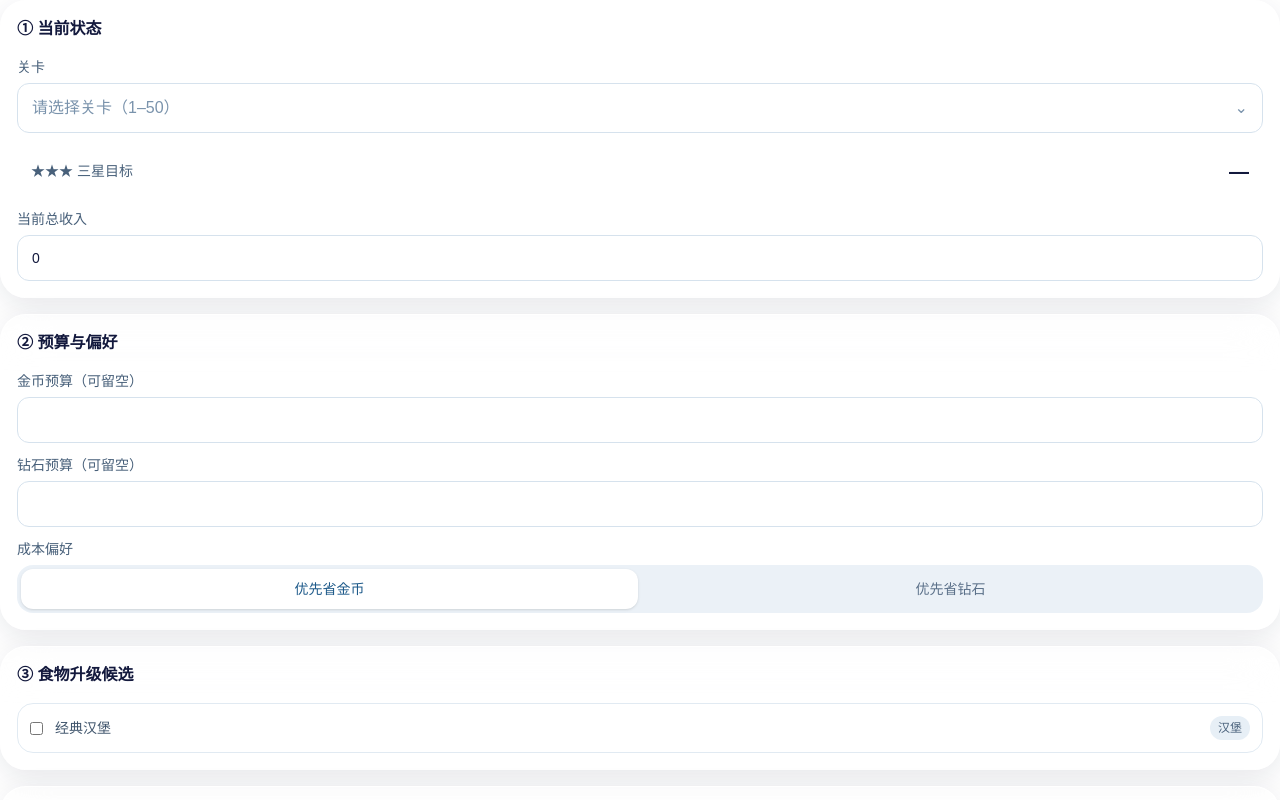
Test: CalculatorForm › closes the open level listbox with Escape or an outside click
The width and height of the screenshot is (1280, 800).
Click the dropdown labelled "关卡": (106, 108) [17,83,1263,133]
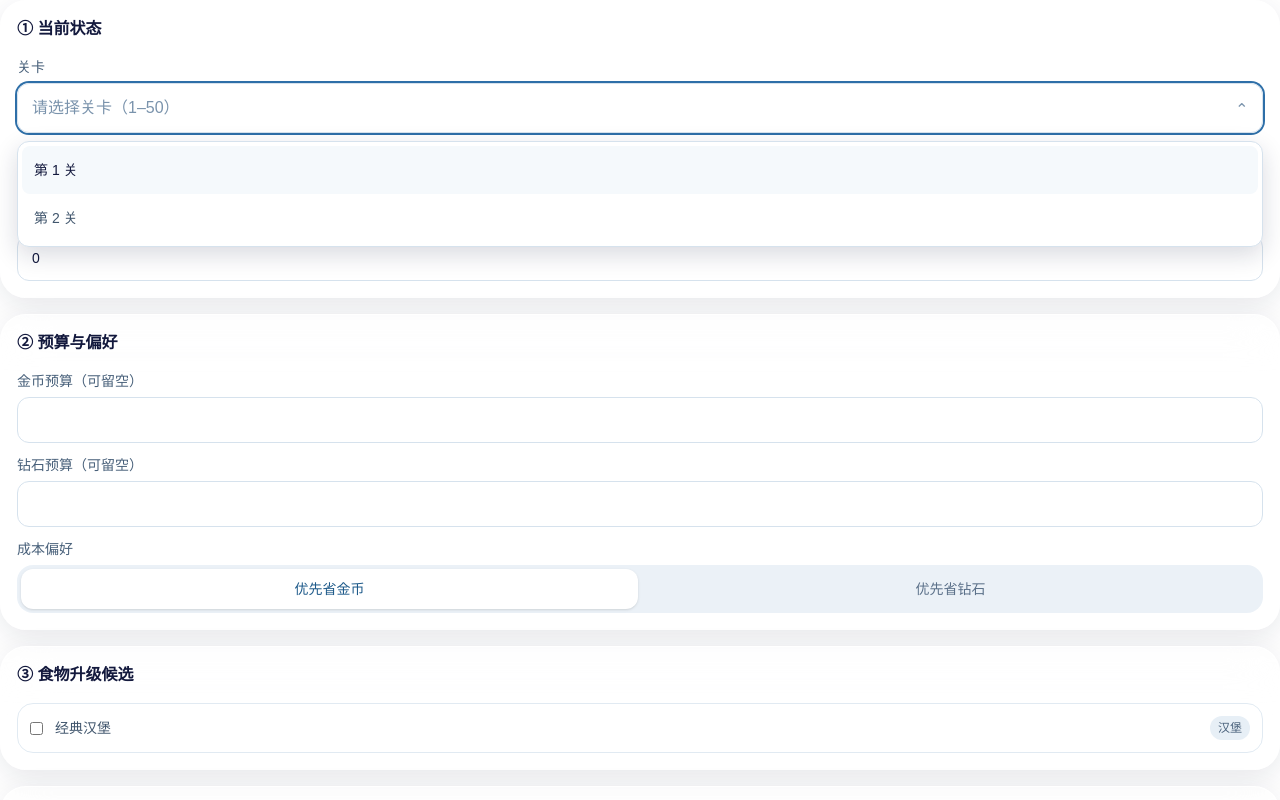
Press Arrowdown Enter
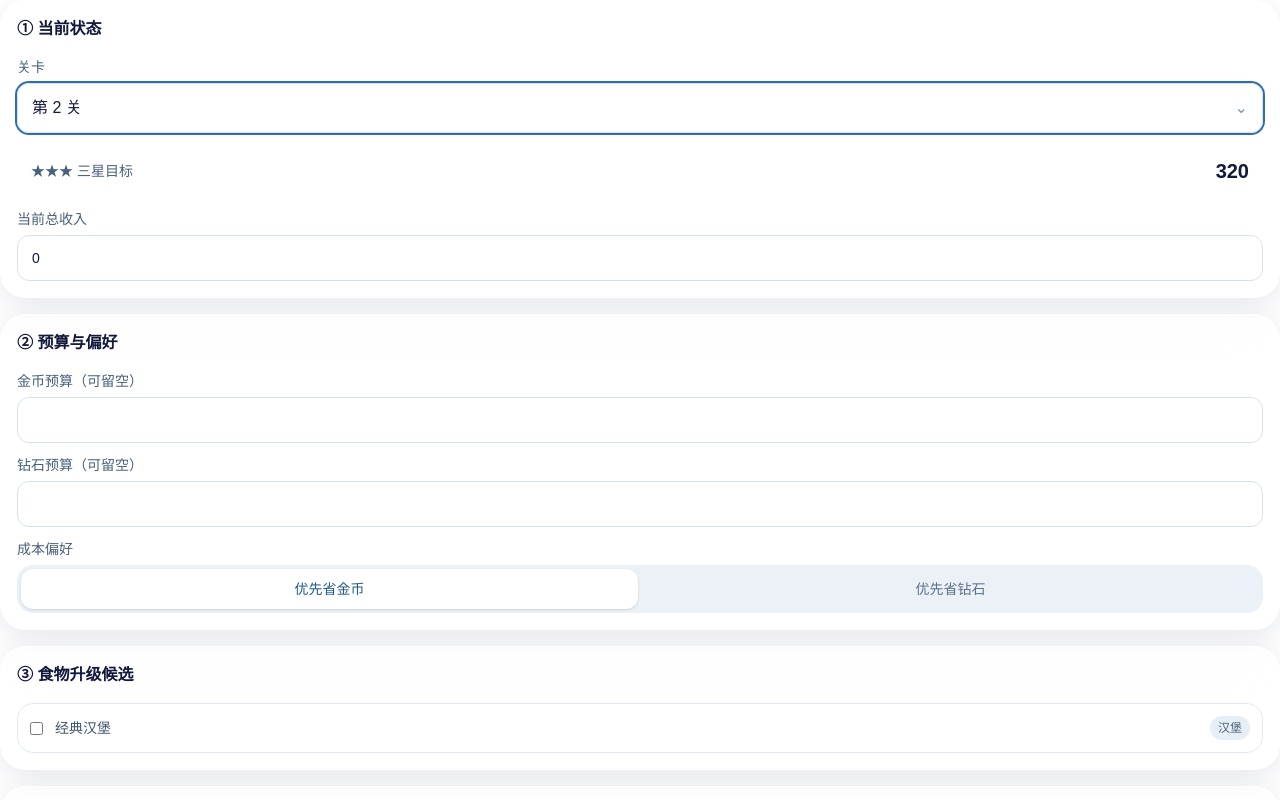
Check: the dropdown named "关卡" shows "第 2 关"
Check: the list "关卡选项" is gone
Click the dropdown named "关卡": (57, 108) [17,83,1263,133]
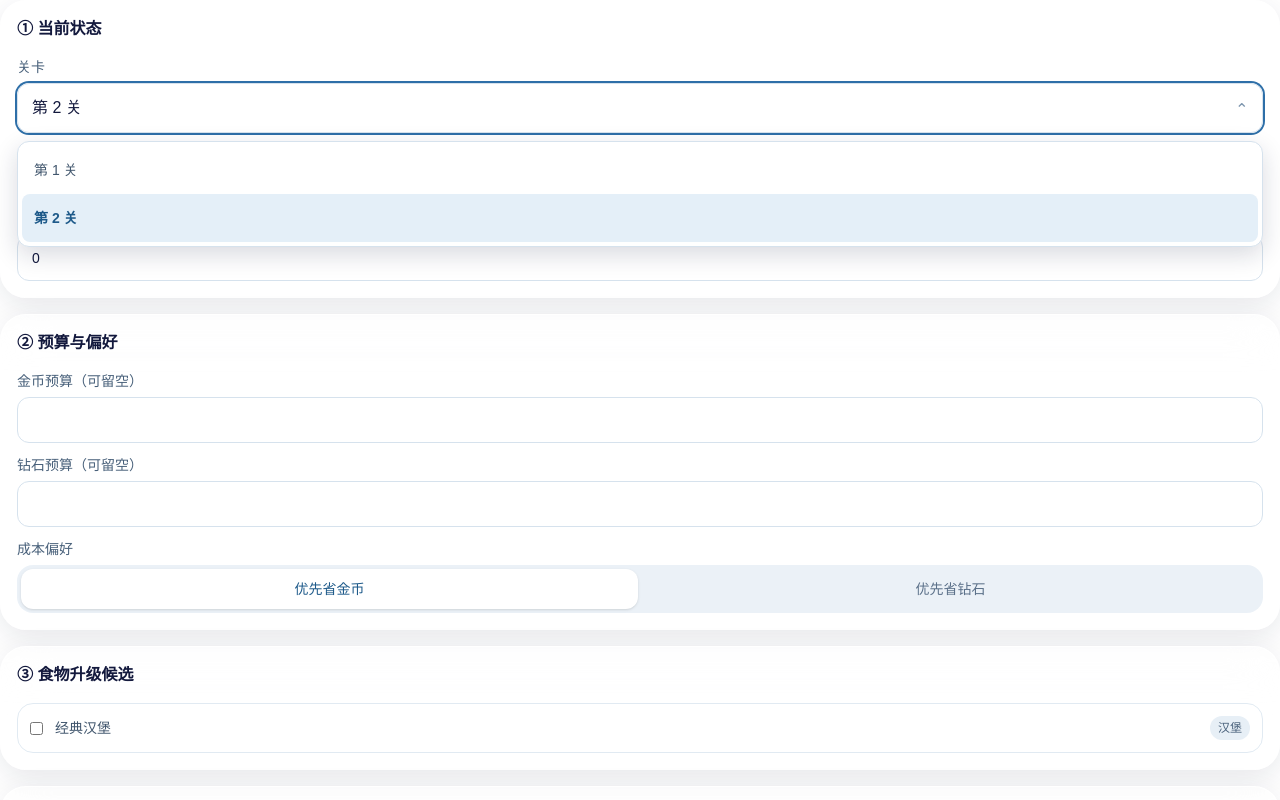
Press Escape
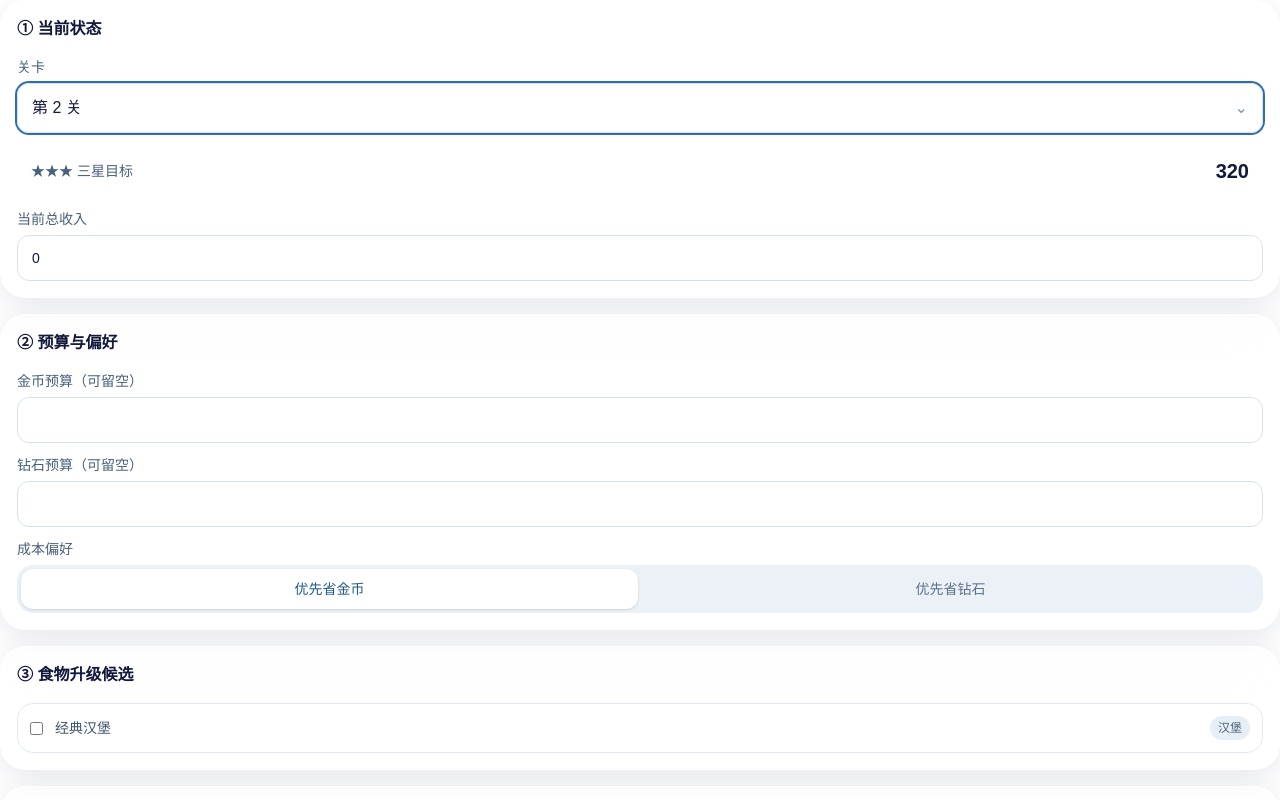
Check: the list "关卡选项" is gone
Click the dropdown named "关卡": (57, 108) [17,83,1263,133]
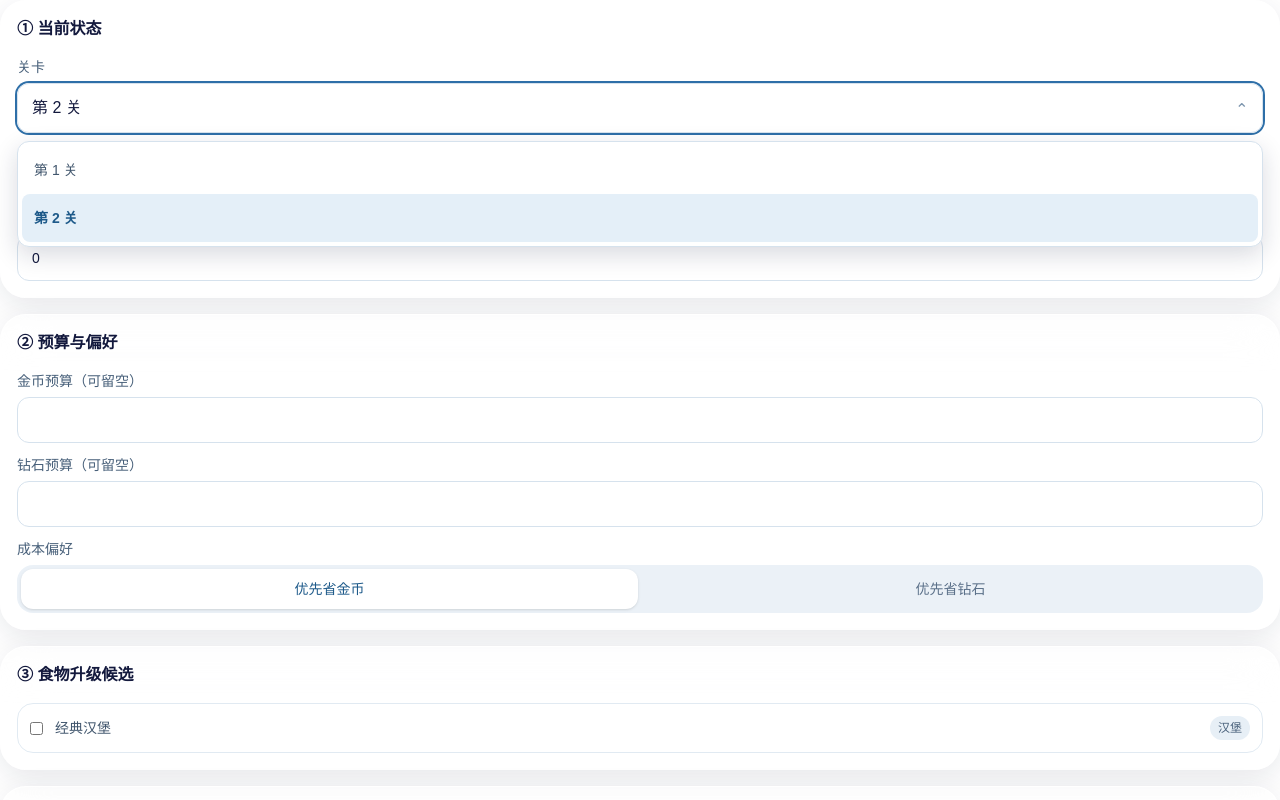
Click the heading "① 当前状态": (59, 28) [17,20,102,37]
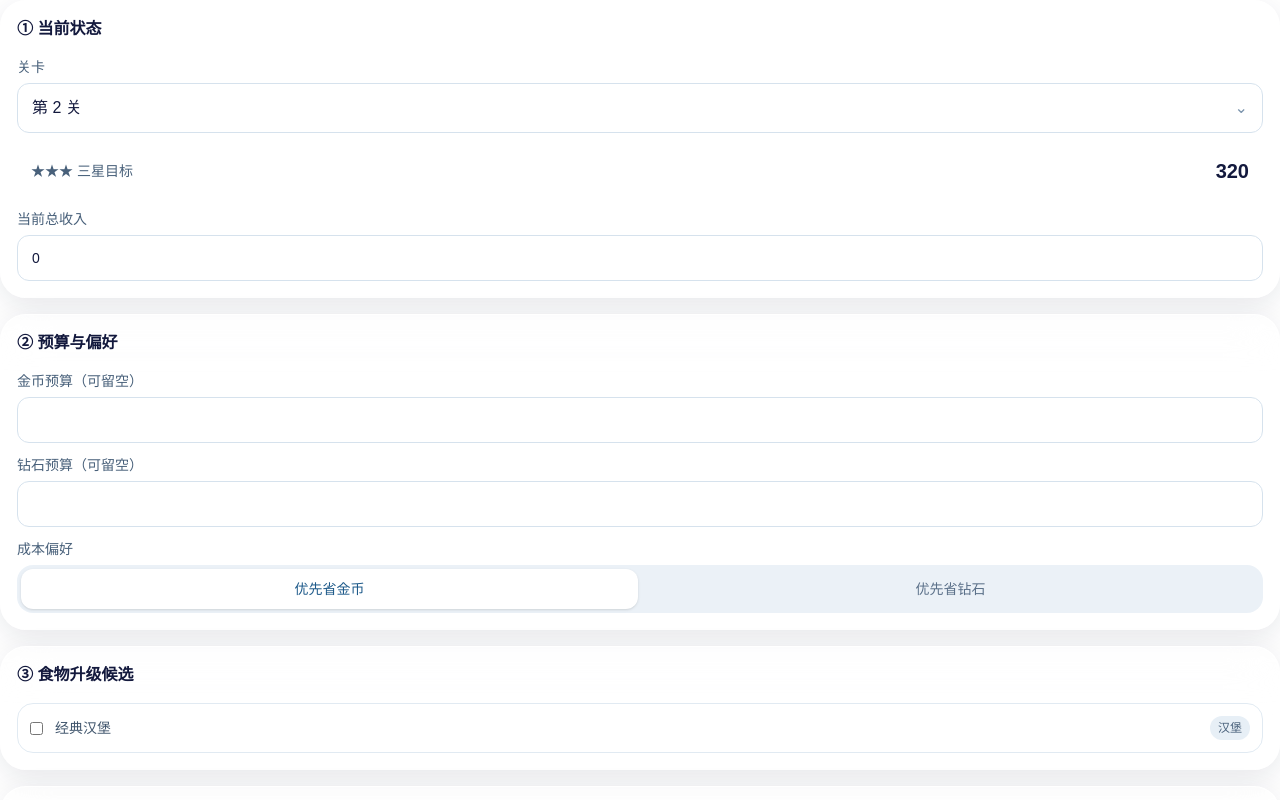
Check: the list "关卡选项" is gone
